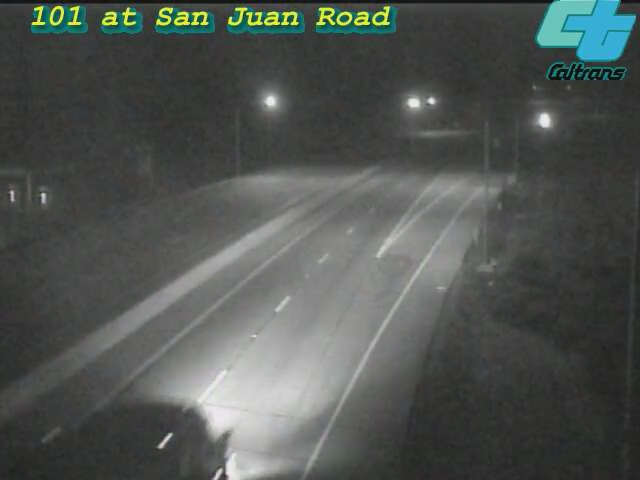vehicle: (86, 395, 196, 480), (521, 96, 571, 146)
